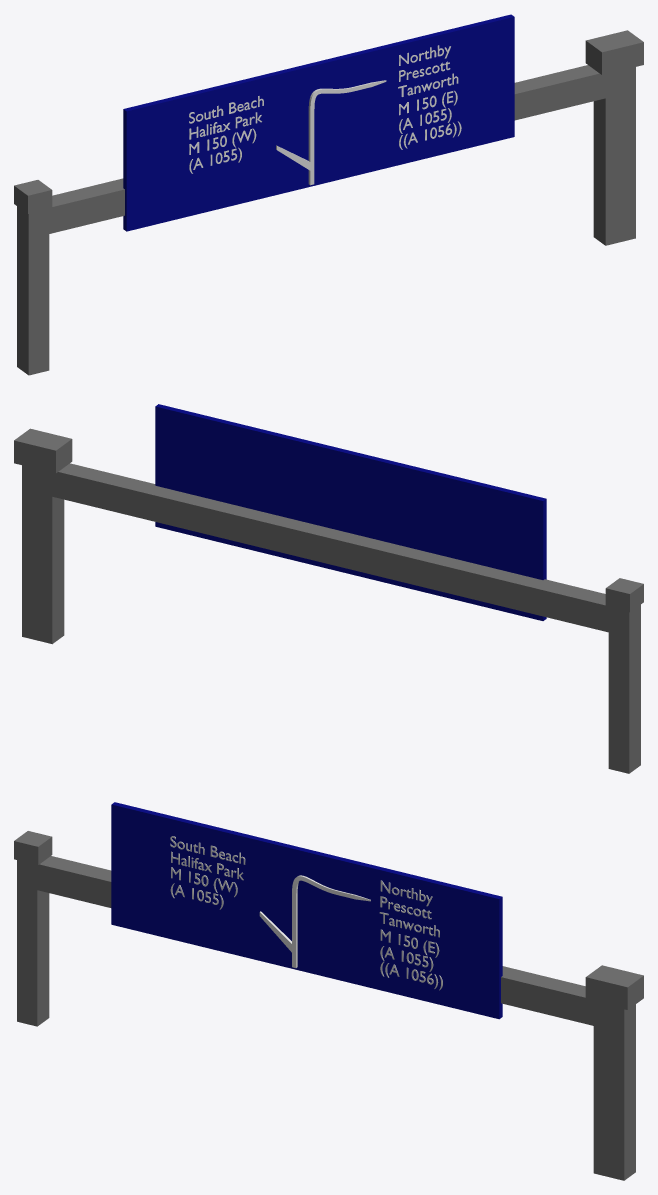
The model's file is JCT1SignSplitM150.fbx.
3 views of the same model, one above another, from view 1: azimuth 30°, elevation 25°; view 2: azimuth 150°, elevation 25°; view 3: azimuth 330°, elevation 25° (orthographic).
Parts seen in each view (by area): view 1: MotorwayTwoWaySign, M150SplitGantry, JCT1SplitSign, Text.001, Text, Text.003, Text.002; view 2: M150SplitGantry, MotorwayTwoWaySign; view 3: MotorwayTwoWaySign, M150SplitGantry, JCT1SplitSign, Text.001, Text, Text.003, Text.002.
Boxes of the visible parts, x1,y1,x2,y2 form: MotorwayTwoWaySign: [123, 14, 514, 231]; M150SplitGantry: [14, 30, 643, 375]; JCT1SplitSign: [276, 80, 386, 185]; Text.001: [399, 90, 461, 149]; Text: [398, 45, 458, 96]; Text.003: [189, 96, 263, 139]; Text.002: [189, 128, 256, 173]; M150SplitGantry: [14, 428, 643, 773]; MotorwayTwoWaySign: [155, 404, 546, 620]; MotorwayTwoWaySign: [111, 802, 502, 1019]; M150SplitGantry: [14, 831, 643, 1180]; JCT1SplitSign: [259, 875, 370, 967]; Text.001: [380, 929, 442, 990]; Text: [379, 880, 439, 937]; Text.003: [170, 836, 245, 880]; Text.002: [170, 867, 237, 909].
Size of the model in its own units: 1684 by 662 by 83.13.
